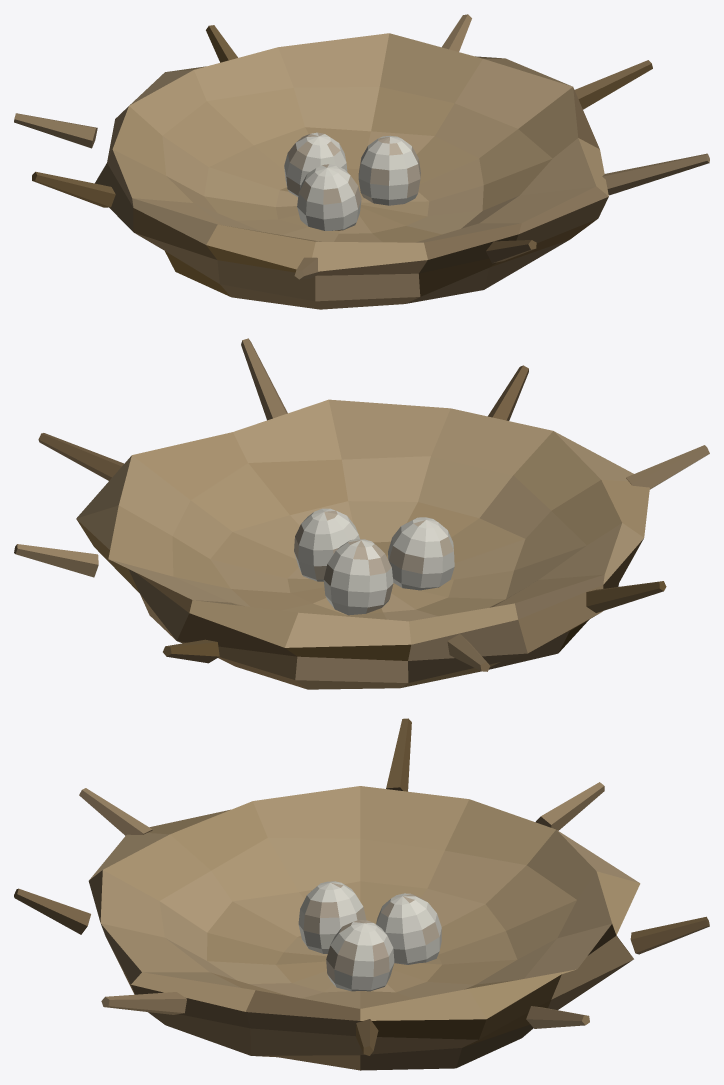
The model's file is Bird_Nest.glb.
3 renders of one model, top to bottom at view 1: azimuth 30°, elevation 25°; view 2: azimuth 150°, elevation 25°; view 3: azimuth 270°, elevation 25°, orthographic. The views are drawn at different scales.
Parts seen in each view (by area): view 1: BirdNest_Bowl, BirdNest_Egg_1, BirdNest_Egg_0, BirdNest_Egg_2, BirdNest_Twig_7, BirdNest_Twig_4, BirdNest_Twig_3, BirdNest_Twig_0, BirdNest_Twig_6, BirdNest_Twig_2, BirdNest_Twig_1; view 2: BirdNest_Bowl, BirdNest_Egg_2, BirdNest_Egg_0, BirdNest_Egg_1, BirdNest_Twig_1, BirdNest_Twig_0, BirdNest_Twig_4, BirdNest_Twig_7, BirdNest_Twig_5, BirdNest_Twig_2, BirdNest_Twig_6, BirdNest_Twig_3; view 3: BirdNest_Bowl, BirdNest_Egg_1, BirdNest_Egg_2, BirdNest_Egg_0, BirdNest_Twig_7, BirdNest_Twig_2, BirdNest_Twig_6, BirdNest_Twig_4, BirdNest_Twig_3, BirdNest_Twig_5, BirdNest_Twig_1, BirdNest_Twig_0.
Part boxes in pixels (left/top/right/bottom): BirdNest_Bowl: left=95, top=33, right=608, bottom=309; BirdNest_Egg_1: left=358, top=135, right=420, bottom=205; BirdNest_Egg_0: left=297, top=164, right=361, bottom=230; BirdNest_Egg_2: left=284, top=132, right=347, bottom=196; BirdNest_Twig_7: left=602, top=153, right=709, bottom=195; BirdNest_Twig_4: left=32, top=171, right=115, bottom=207; BirdNest_Twig_3: left=14, top=113, right=97, bottom=148; BirdNest_Twig_0: left=574, top=60, right=652, bottom=109; BirdNest_Twig_6: left=486, top=240, right=536, bottom=263; BirdNest_Twig_2: left=206, top=25, right=237, bottom=62; BirdNest_Twig_1: left=442, top=14, right=471, bottom=51; BirdNest_Bowl: left=76, top=399, right=649, bottom=689; BirdNest_Egg_2: left=323, top=539, right=393, bottom=615; BirdNest_Egg_0: left=388, top=517, right=454, bottom=590; BirdNest_Egg_1: left=294, top=508, right=359, bottom=581; BirdNest_Twig_1: left=14, top=544, right=98, bottom=577; BirdNest_Twig_0: left=38, top=433, right=123, bottom=480; BirdNest_Twig_4: left=586, top=581, right=666, bottom=612; BirdNest_Twig_7: left=241, top=338, right=287, bottom=420; BirdNest_Twig_5: left=626, top=445, right=709, bottom=489; BirdNest_Twig_2: left=163, top=639, right=219, bottom=663; BirdNest_Twig_6: left=488, top=365, right=528, bottom=420; BirdNest_Twig_3: left=447, top=634, right=490, bottom=671; BirdNest_Bowl: left=88, top=786, right=640, bottom=1070; BirdNest_Egg_1: left=326, top=920, right=394, bottom=991; BirdNest_Egg_2: left=376, top=893, right=441, bottom=964; BirdNest_Egg_0: left=298, top=881, right=366, bottom=953; BirdNest_Twig_7: left=101, top=992, right=186, bottom=1014; BirdNest_Twig_2: left=630, top=916, right=709, bottom=954; BirdNest_Twig_6: left=14, top=888, right=90, bottom=934; BirdNest_Twig_4: left=386, top=718, right=411, bottom=791; BirdNest_Twig_3: left=535, top=782, right=604, bottom=830; BirdNest_Twig_5: left=79, top=788, right=152, bottom=835; BirdNest_Twig_1: left=526, top=1006, right=589, bottom=1028; BirdNest_Twig_0: left=356, top=1019, right=378, bottom=1055.
Bounding box in the file's own units: 1.06 × 0.1899 × 1.01.
